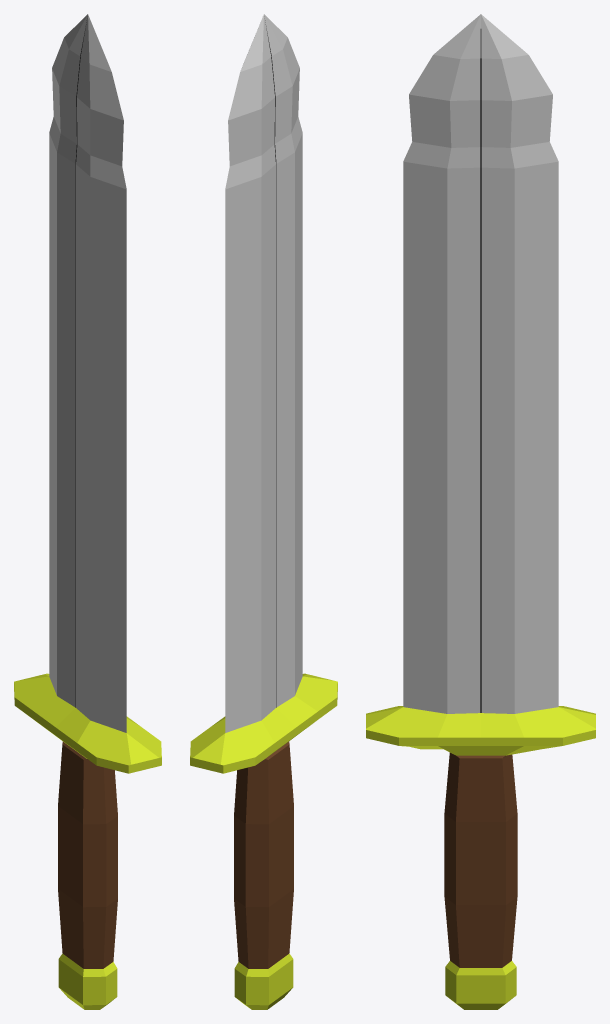
Rendered from sword.fbx.
The picture shows the model from 3 angles, left to right: view 1: azimuth 30°, elevation 25°; view 2: azimuth 150°, elevation 25°; view 3: azimuth 270°, elevation 25°; orthographic projection.
Visible parts, largest first — view 1: Sword; view 2: Sword; view 3: Sword.
Boxes of the visible parts, x1=… form: Sword: x1=14, y1=14, x2=161, y2=1009; Sword: x1=190, y1=14, x2=337, y2=1009; Sword: x1=366, y1=14, x2=595, y2=1009.
Size of the model in its own units: 41.69 by 608 by 128.
